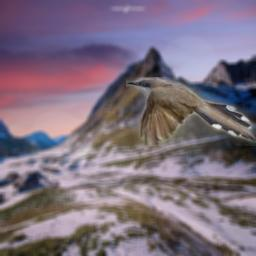Cuckoo: (126, 77, 256, 146)
